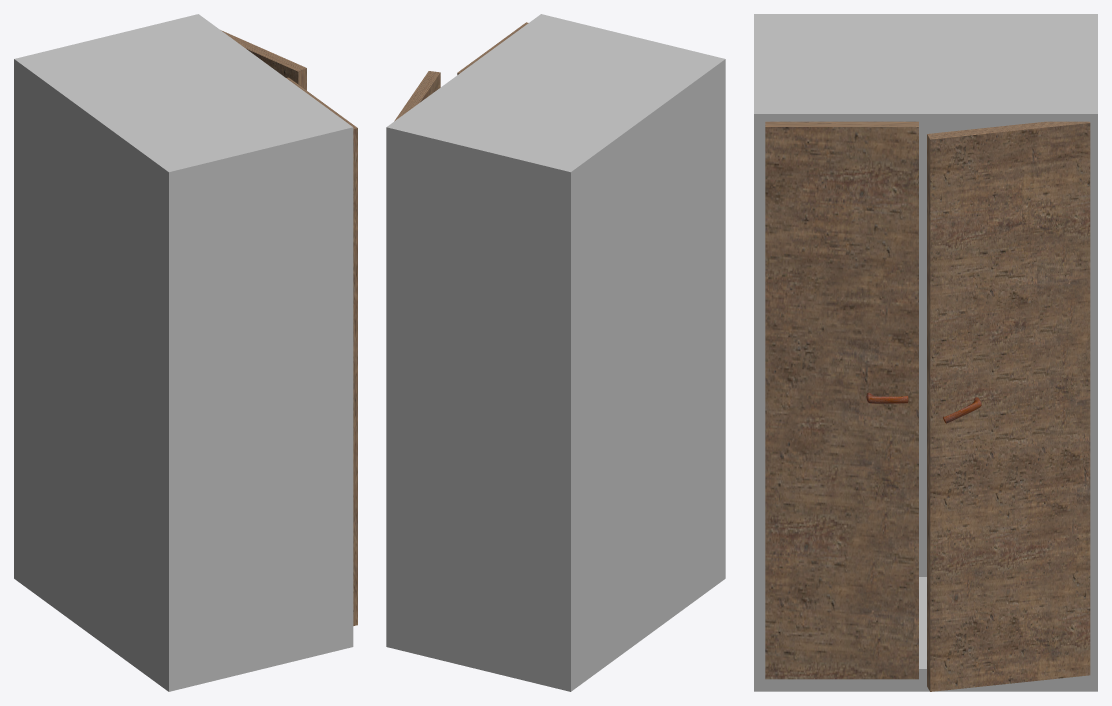
Rendered from cabinets hiding 1.fbx.
3 views of the same model, side by side, from view 1: azimuth 30°, elevation 25°; view 2: azimuth 150°, elevation 25°; view 3: azimuth 270°, elevation 25° (orthographic). The views are drawn at different scales.
Visible parts, largest first — view 1: pCube4, pCube3, pasted__pCube3; view 2: pCube4, pasted__pCube3; view 3: pasted__pCube3, pCube3, pCube4.
Part boxes in pixels (left/top/right/bottom): pCube4: left=14, top=14, right=353, bottom=691; pCube3: left=286, top=77, right=357, bottom=625; pasted__pCube3: left=221, top=30, right=306, bottom=90; pCube4: left=386, top=14, right=725, bottom=691; pasted__pCube3: left=394, top=71, right=440, bottom=121; pasted__pCube3: left=927, top=121, right=1090, bottom=691; pCube3: left=765, top=121, right=918, bottom=679; pCube4: left=754, top=14, right=1097, bottom=691.
Size of the model in its own units: 8.46 by 18.64 by 10.06.
